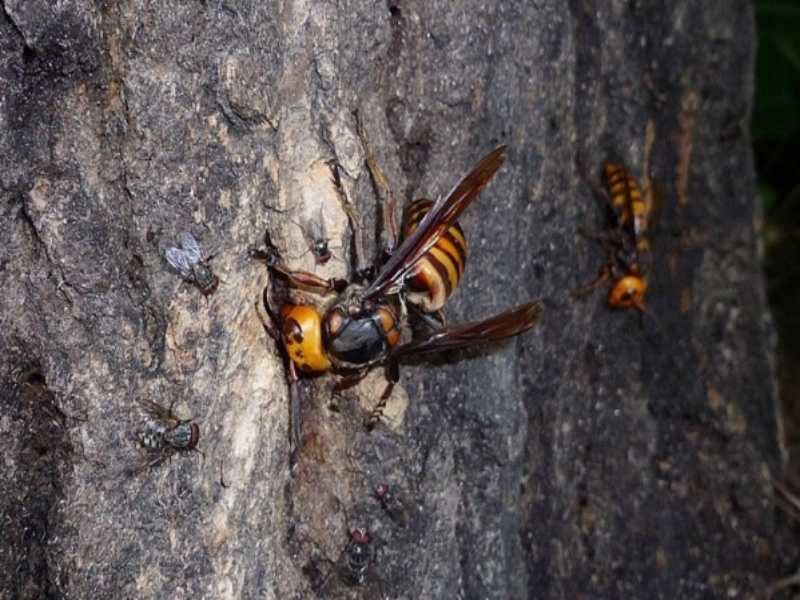asian_giant_hornet: (266, 190, 477, 380), (584, 152, 658, 312)
